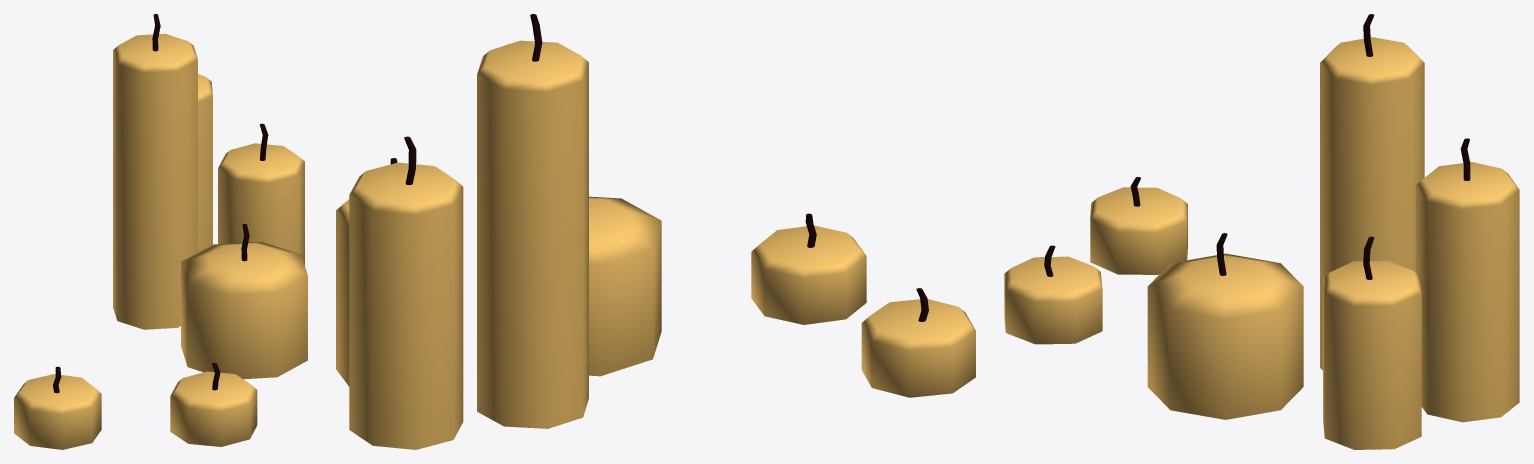
Rendered from SM_Bougie_GroupB.fbx.
3 renders of one model, left to right at view 1: azimuth 30°, elevation 25°; view 2: azimuth 150°, elevation 25°; view 3: azimuth 270°, elevation 25°, orthographic. The views are drawn at different scales.
Visible parts, largest first — view 1: pCylinder45; view 2: pCylinder45; view 3: pCylinder45.
Part boxes in pixels (x1,y1,x2,y2): pCylinder45: (14,14,307,449); pCylinder45: (336,14,975,449); pCylinder45: (1004,14,1519,449).
Size of the model in its own units: 9.77 by 7.65 by 9.85.
